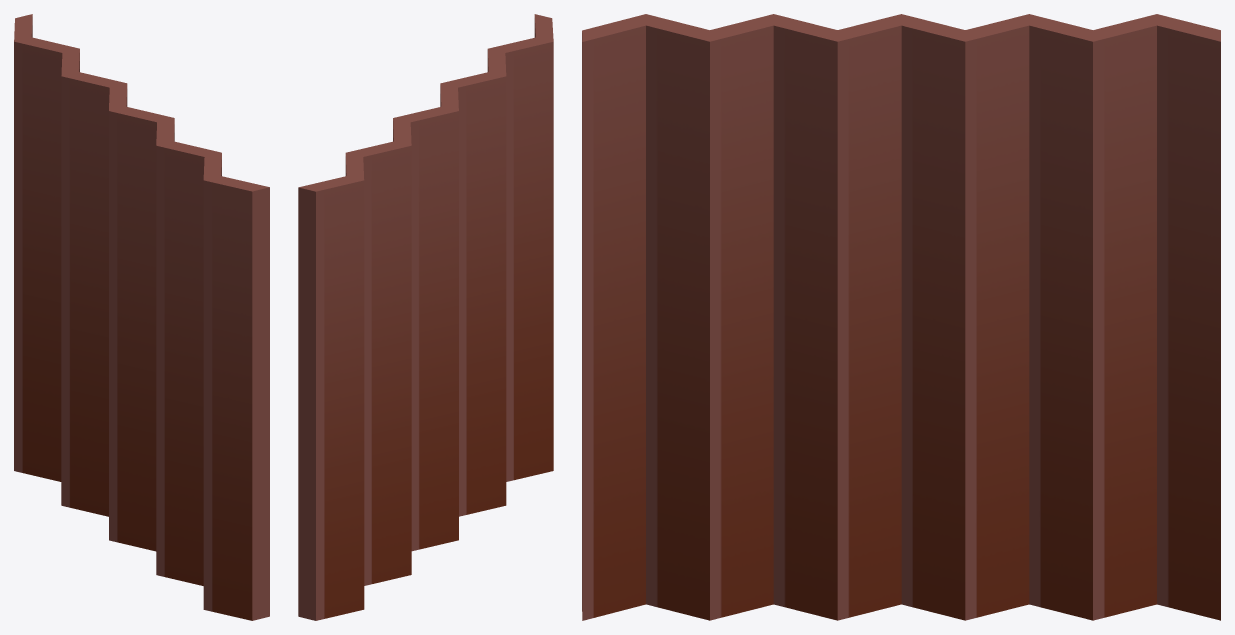
Rendered from Environment_RifledWall_01.fbx.
3 views of the same model, side by side, from view 1: azimuth 30°, elevation 25°; view 2: azimuth 150°, elevation 25°; view 3: azimuth 270°, elevation 25° (orthographic). The views are drawn at different scales.
Visible parts, largest first — view 1: Environment_RifledWall_01; view 2: Environment_RifledWall_01; view 3: Environment_RifledWall_01.
Part boxes in pixels (x1,y1,x2,y2): Environment_RifledWall_01: (14, 14, 269, 620); Environment_RifledWall_01: (298, 14, 553, 620); Environment_RifledWall_01: (582, 14, 1220, 620).
Bounding box in the file's own units: 20.81 × 200 × 200.
